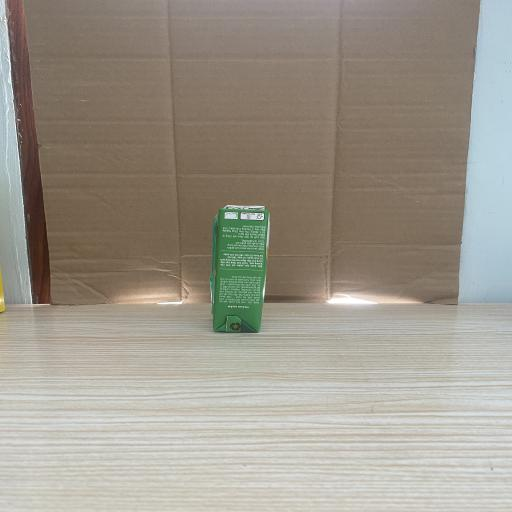milo: (209, 205, 270, 333)
